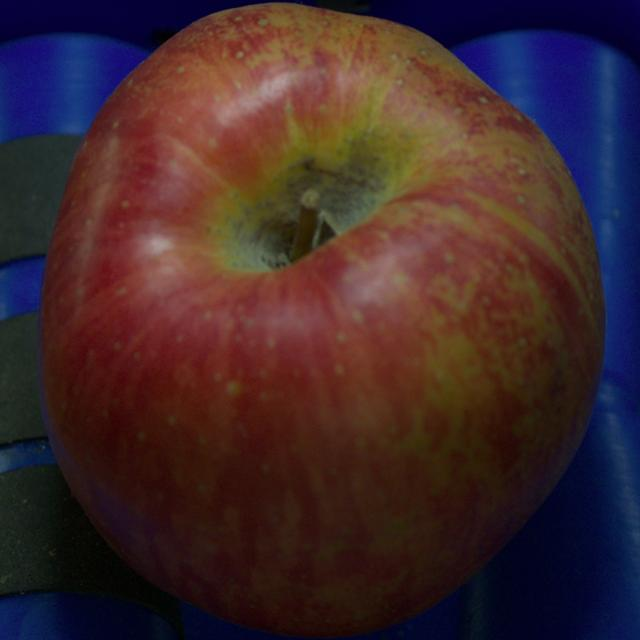apple: (39, 4, 604, 636)
